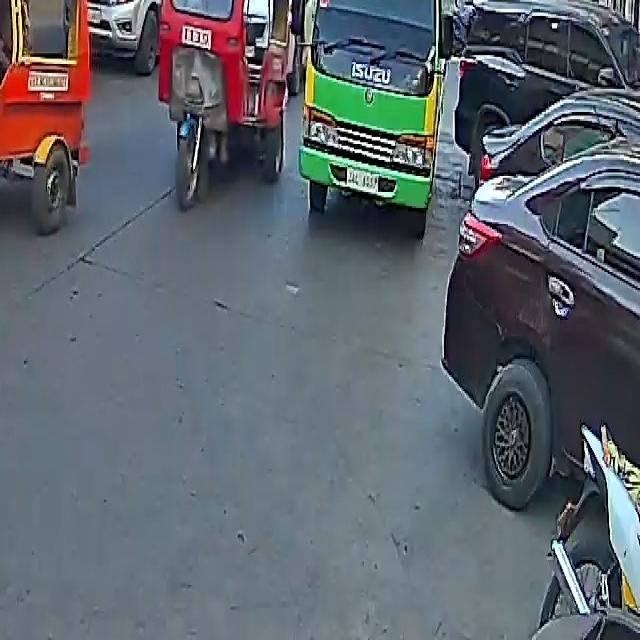car: (442, 52, 640, 534), (452, 0, 640, 176), (76, 0, 160, 66)
